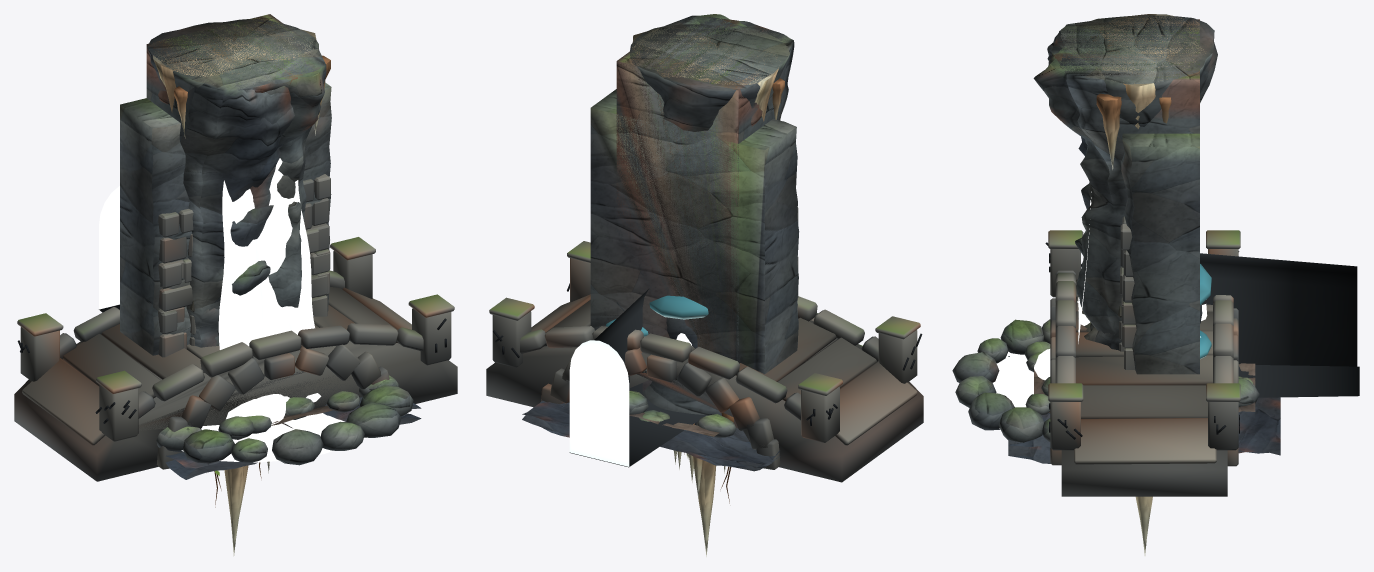
File: hoehle.glb
3 views of the same model, side by side, from view 1: azimuth 30°, elevation 25°; view 2: azimuth 150°, elevation 25°; view 3: azimuth 270°, elevation 25° (orthographic).
Parts seen in each view (by area): view 1: steinbruecke1_stein, wasserfall1_fels, wand3_fels, wand1_fels, wasserfall1_wasser, felsen1_fels, torbogen1_stein, wand4_fels, torbogen1_licht, tropfsaeule3_stein, torbogen2_stein, wasserfall1_becken (+10 smaller); view 2: steinbruecke1_stein, wasserfall1_fels, wand1_fels, felsen1_fels, wand2_fels, wand5_fels, torbogen1_licht, torbogen1_gang, wand3_fels, decke2_fels, wand4_fels, tropfsaeule3_stein (+7 smaller); view 3: steinbruecke1_stein, wasserfall1_fels, torbogen1_gang, wand1_fels, felsen1_fels, decke1_fels, tropfsaeule3_stein, felsen2_fels, wand4_fels, wand3_fels, wand6_fels, wasserfall1_becken (+9 smaller).
Part boxes in pixels (x1,y1,x2,y2): steinbruecke1_stein: [14, 237, 457, 481]; wasserfall1_fels: [120, 82, 413, 465]; wand3_fels: [164, 18, 324, 345]; wand1_fels: [146, 14, 325, 347]; wasserfall1_wasser: [218, 158, 314, 425]; felsen1_fels: [147, 18, 318, 334]; torbogen1_stein: [158, 174, 330, 357]; wand4_fels: [164, 18, 326, 347]; torbogen1_licht: [99, 186, 119, 309]; tropfsaeule3_stein: [153, 25, 330, 138]; torbogen2_stein: [158, 228, 329, 356]; wasserfall1_becken: [181, 413, 367, 462]; steinbruecke1_stein: [486, 241, 923, 482]; wasserfall1_fels: [590, 89, 862, 428]; wand1_fels: [616, 15, 794, 360]; felsen1_fels: [630, 24, 789, 424]; wand2_fels: [628, 15, 793, 357]; wand5_fels: [616, 17, 789, 358]; torbogen1_licht: [569, 340, 629, 466]; torbogen1_gang: [569, 289, 706, 467]; wand3_fels: [629, 16, 793, 354]; decke2_fels: [522, 400, 779, 469]; wand4_fels: [628, 14, 789, 358]; tropfsaeule3_stein: [632, 27, 784, 121]; steinbruecke1_stein: [1045, 230, 1240, 496]; wasserfall1_fels: [952, 133, 1199, 442]; torbogen1_gang: [1200, 253, 1359, 397]; wand1_fels: [1061, 19, 1199, 350]; felsen1_fels: [1066, 15, 1217, 323]; decke1_fels: [1008, 356, 1280, 463]; tropfsaeule3_stein: [1096, 14, 1194, 169]; felsen2_fels: [1083, 22, 1206, 78]; wand4_fels: [1033, 24, 1199, 330]; wand3_fels: [1047, 24, 1199, 332]; wand6_fels: [1063, 24, 1199, 347]; wasserfall1_becken: [993, 351, 1033, 429].
Bounding box in the file's own units: 9.81 × 13.2 × 9.56.
Materials: 4 (2 with a texture image).
